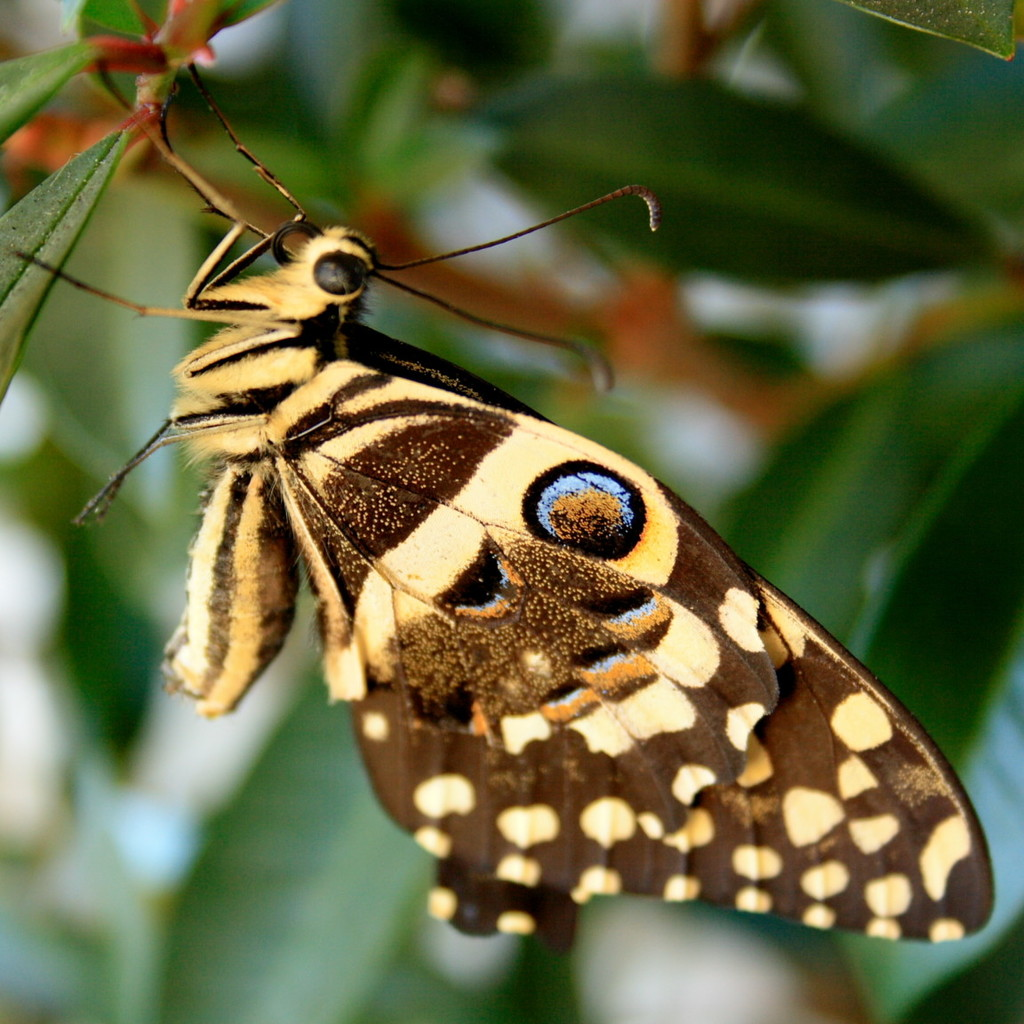Butterfly: (81, 140, 1013, 997)
